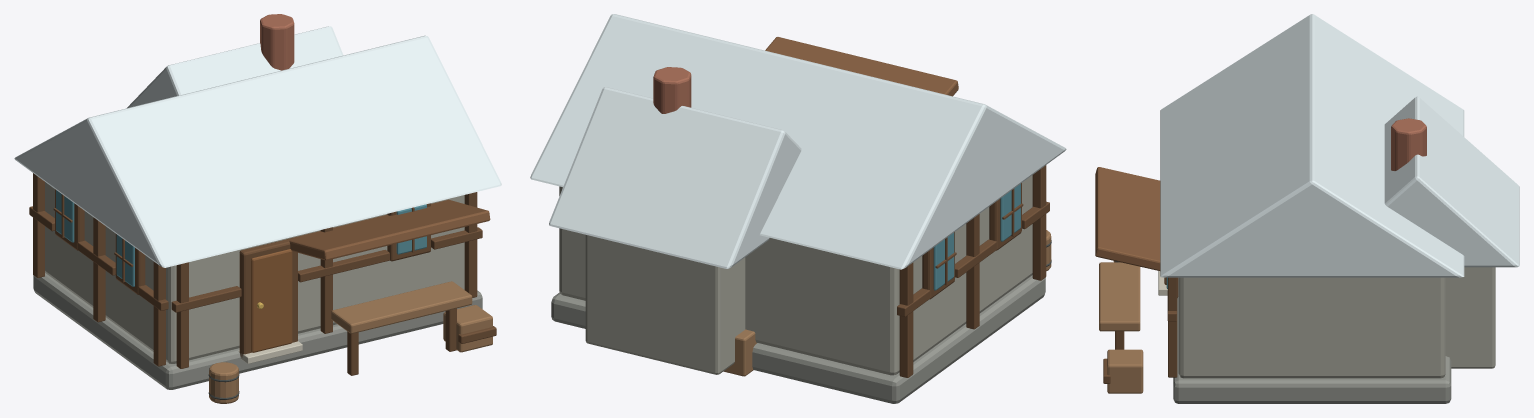
The model's file is snowy-artisan-3.glb.
3 views of the same model, side by side, from view 1: azimuth 30°, elevation 25°; view 2: azimuth 150°, elevation 25°; view 3: azimuth 270°, elevation 25° (orthographic). The views are drawn at different scales.
Parts seen in each view (by area): view 1: Snow, Fieldstone, Dark beams, Foundation stone, Aged oak, Wood shingles, Door oak, Blue glass, Chimney brick, Cut limestone; view 2: Snow, Fieldstone, Foundation stone, Dark beams, Wood shingles, Blue glass, Chimney brick, Aged oak; view 3: Snow, Fieldstone, Foundation stone, Wood shingles, Aged oak, Chimney brick, Dark beams.
Boxes of the visible parts, x1,y1,x2,y2 form: Snow: (14, 26, 501, 267); Fieldstone: (45, 182, 464, 363); Dark beams: (29, 173, 496, 375); Foundation stone: (33, 273, 482, 389); Aged oak: (209, 281, 492, 403); Wood shingles: (289, 199, 490, 260); Door oak: (251, 249, 292, 352); Blue glass: (56, 190, 426, 286); Chimney brick: (260, 14, 294, 70); Cut limestone: (238, 341, 302, 363); Snow: (530, 14, 1066, 269); Fieldstone: (559, 175, 1032, 375); Foundation stone: (551, 275, 1045, 403); Dark beams: (897, 165, 1049, 377); Wood shingles: (765, 37, 958, 96); Blue glass: (933, 183, 1020, 290); Chimney brick: (653, 67, 691, 113); Aged oak: (723, 230, 1051, 376); Snow: (1160, 14, 1519, 277); Fieldstone: (1178, 267, 1495, 378); Foundation stone: (1173, 278, 1451, 403); Wood shingles: (1095, 167, 1160, 270); Aged oak: (1099, 261, 1143, 393); Chimney brick: (1391, 118, 1426, 170); Dark beams: (1103, 277, 1178, 383).
Size of the model in its own units: 4.34 by 2.83 by 4.61.
